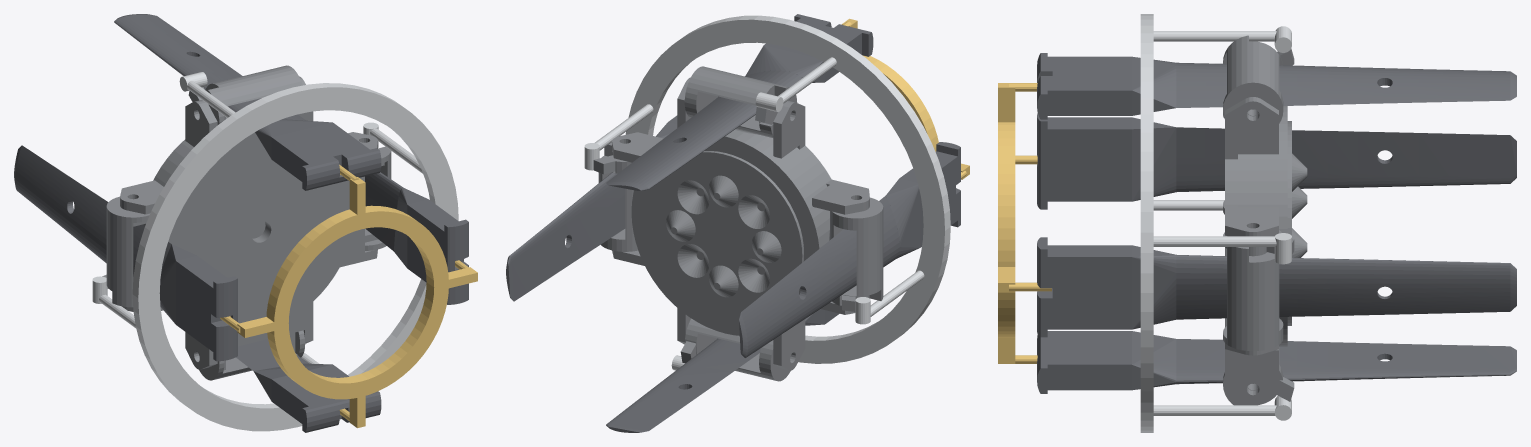
Rendered from cephalo2_rotor_bars.glb.
The picture shows the model from 3 angles, left to right: view 1: azimuth 30°, elevation 25°; view 2: azimuth 150°, elevation 25°; view 3: azimuth 270°, elevation 25°; orthographic projection. The views are drawn at different scales.
Visible parts, largest first — view 1: belly rotor|blades, belly rotor|hub, scabbard cage|rods, scabbard cage|elevator, belly rotor|barrels; view 2: belly rotor|hub, belly rotor|blades, scabbard cage|rods, belly rotor|barrels, scabbard cage|elevator; view 3: belly rotor|blades, belly rotor|hub, scabbard cage|rods, belly rotor|barrels, scabbard cage|elevator.
Part boxes in pixels (bbox=[...]): belly rotor|blades: bbox=[14, 14, 468, 432]; belly rotor|hub: bbox=[120, 76, 377, 369]; scabbard cage|rods: bbox=[92, 72, 458, 431]; scabbard cage|elevator: bbox=[220, 164, 477, 428]; belly rotor|barrels: bbox=[102, 65, 391, 380]; belly rotor|hub: bbox=[612, 77, 869, 370]; belly rotor|blades: bbox=[506, 14, 960, 432]; scabbard cage|rods: bbox=[584, 15, 950, 370]; belly rotor|barrels: bbox=[593, 66, 883, 381]; scabbard cage|elevator: bbox=[842, 18, 969, 179]; belly rotor|blades: bbox=[1037, 53, 1516, 393]; belly rotor|hub: bbox=[1225, 97, 1307, 402]; scabbard cage|rods: bbox=[1140, 14, 1291, 432]; belly rotor|barrels: bbox=[1223, 35, 1294, 405]; scabbard cage|elevator: bbox=[998, 83, 1051, 363].
Bounding box in the file's own units: 0.194 × 0.194 × 0.24.
